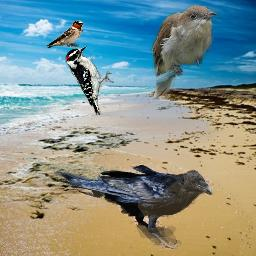Crow: (53, 164, 213, 250)
Cuckoo: (150, 4, 217, 100)
Swallow: (46, 20, 84, 48)
Woodpecker: (65, 46, 115, 115)
